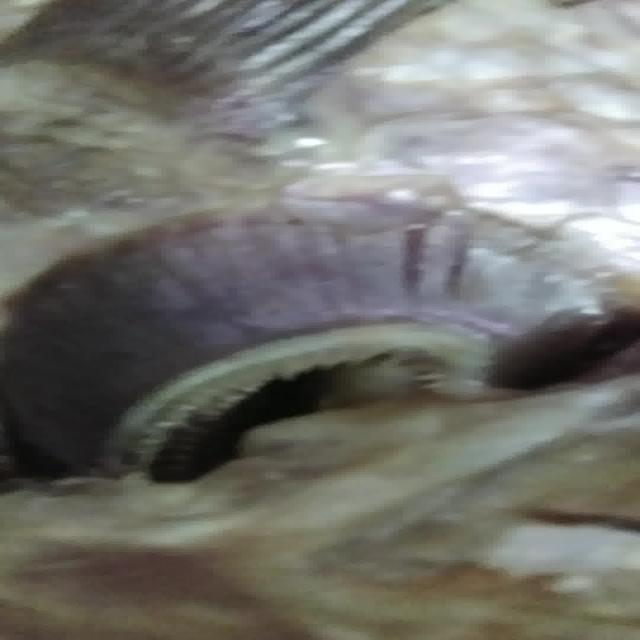Non-Fresh: (18, 184, 584, 476)
